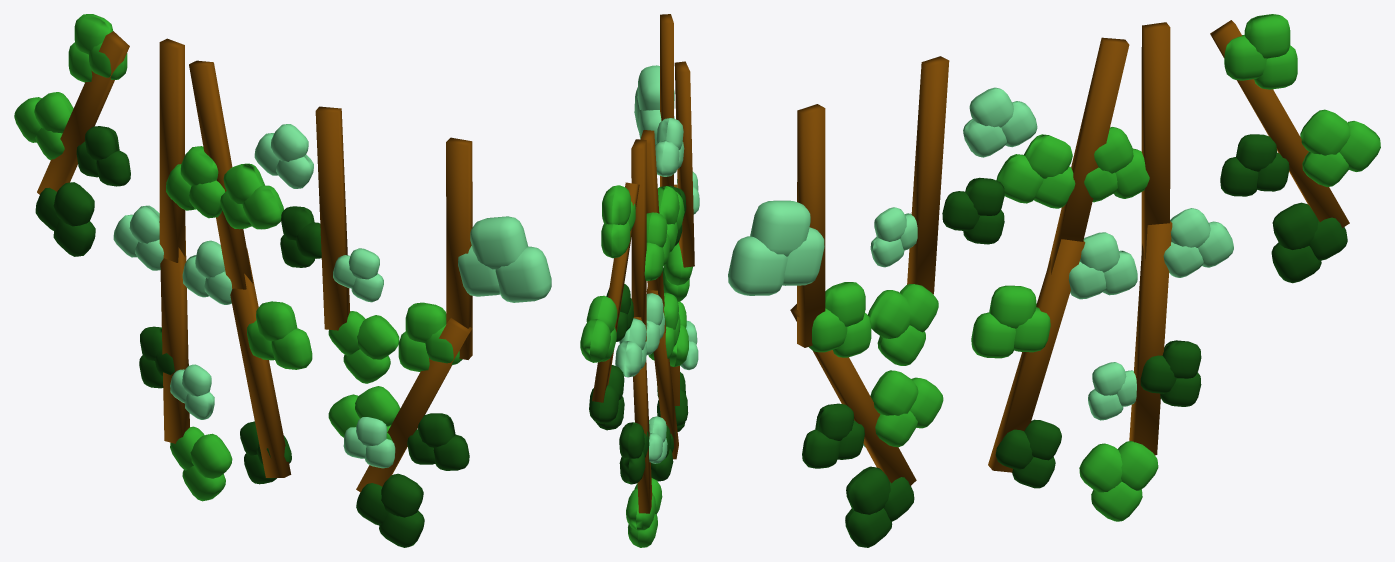
Rendered from Plant_Alive.fbx.
3 views of the same model, side by side, from view 1: azimuth 30°, elevation 25°; view 2: azimuth 150°, elevation 25°; view 3: azimuth 270°, elevation 25° (orthographic). The views are drawn at different scales.
Visible parts, largest first — view 1: Cube.253, Cube.273, Cube.256, Cube.255, Cube.263, Cube.262, Cube.257, Cube.269, Cube.258, Cube.252, Cube.272, Cube.261 (+19 smaller); view 2: Cube.273, Cube.256, Cube.266, Cube.265, Cube.269, Cube.255, Cube.253, Cube.257, Cube.263, Cube.251, Cube.196, Cube.268 (+17 smaller); view 3: Cube.253, Cube.273, Cube.256, Cube.262, Cube.257, Cube.263, Cube.255, Cube.269, Cube.251, Cube.261, Cube.265, Cube.266 (+18 smaller).
Part boxes in pixels (box(x1,y1,x2,y2)): Cube.253: box(458, 216, 551, 302); Cube.273: box(315, 106, 350, 330); Cube.256: box(159, 38, 185, 262); Cube.255: box(446, 137, 472, 359); Cube.263: box(230, 248, 291, 477); Cube.262: box(189, 60, 252, 289); Cube.257: box(159, 221, 189, 443); Cube.269: box(37, 31, 129, 194); Cube.258: box(356, 318, 472, 492); Cube.252: box(356, 473, 424, 547); Cube.272: box(328, 311, 399, 383); Cube.261: box(247, 301, 312, 369); Cube.273: box(674, 61, 694, 267); Cube.256: box(631, 139, 646, 341); Cube.266: box(601, 185, 635, 258); Cube.265: box(580, 295, 617, 362); Cube.269: box(592, 182, 639, 402); Cube.255: box(660, 14, 673, 186); Cube.253: box(634, 65, 674, 144); Cube.257: box(633, 317, 652, 513); Cube.263: box(646, 287, 678, 459); Cube.251: box(626, 478, 662, 547); Cube.196: box(619, 422, 649, 484); Cube.268: box(589, 365, 624, 430); Cube.253: box(728, 200, 824, 295); Cube.273: box(907, 56, 949, 294); Cube.256: box(1141, 22, 1170, 260); Cube.262: box(1048, 37, 1129, 274); Cube.257: box(1129, 221, 1172, 455); Cube.263: box(988, 239, 1085, 472); Cube.255: box(797, 104, 825, 347); Cube.269: box(1210, 20, 1349, 227); Cube.251: box(1079, 441, 1158, 521); Cube.261: box(971, 285, 1050, 358); Cube.265: box(1300, 109, 1380, 187); Cube.266: box(1224, 14, 1297, 89).
Bounding box in the file's own units: 91.14 × 156 × 190.
